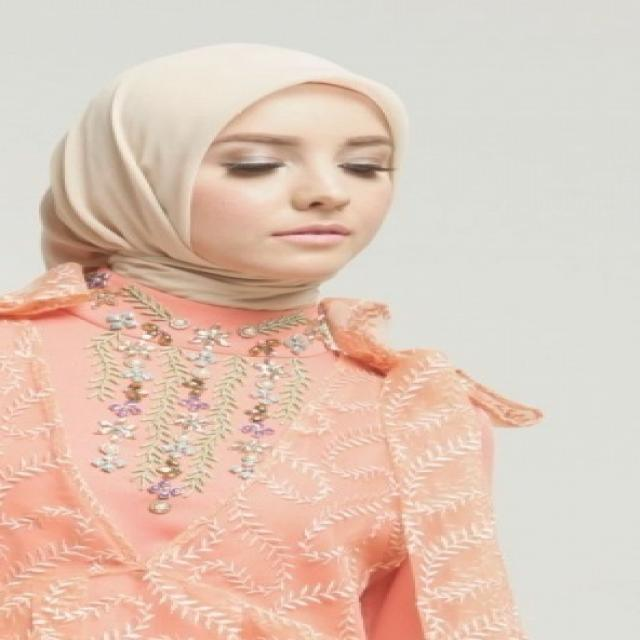head: (40, 41, 418, 300)
